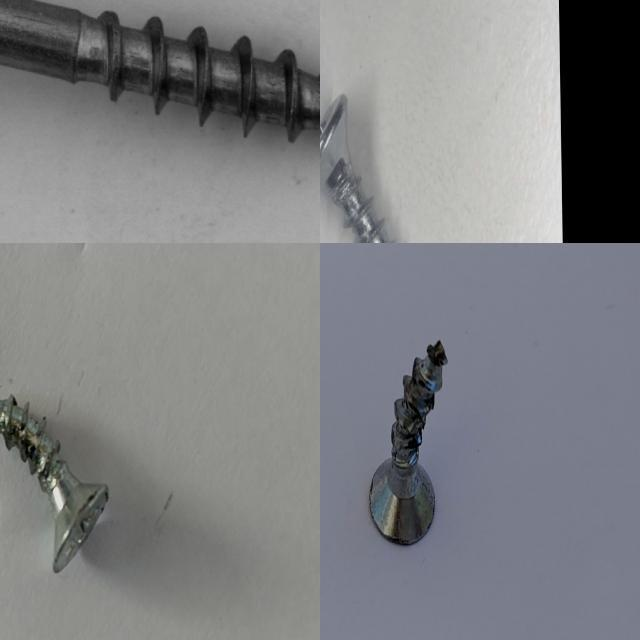Screw: (0, 0, 320, 239), (0, 394, 108, 572), (370, 339, 448, 544), (320, 92, 394, 243)
